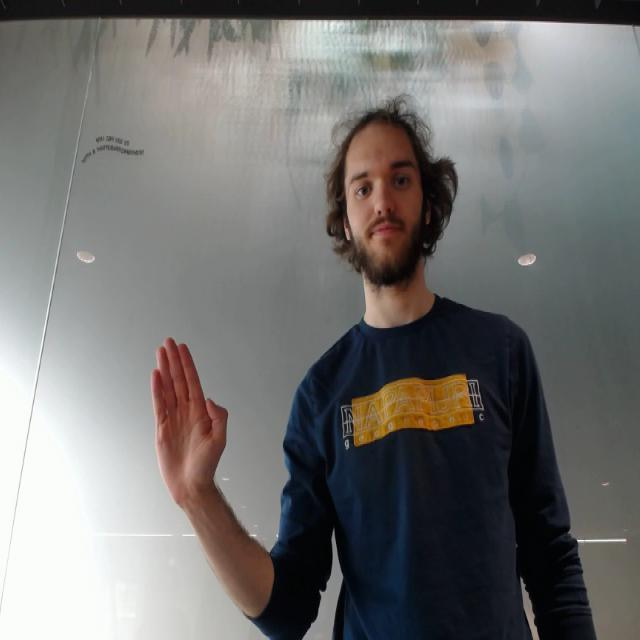backward: (150, 332, 232, 516)
